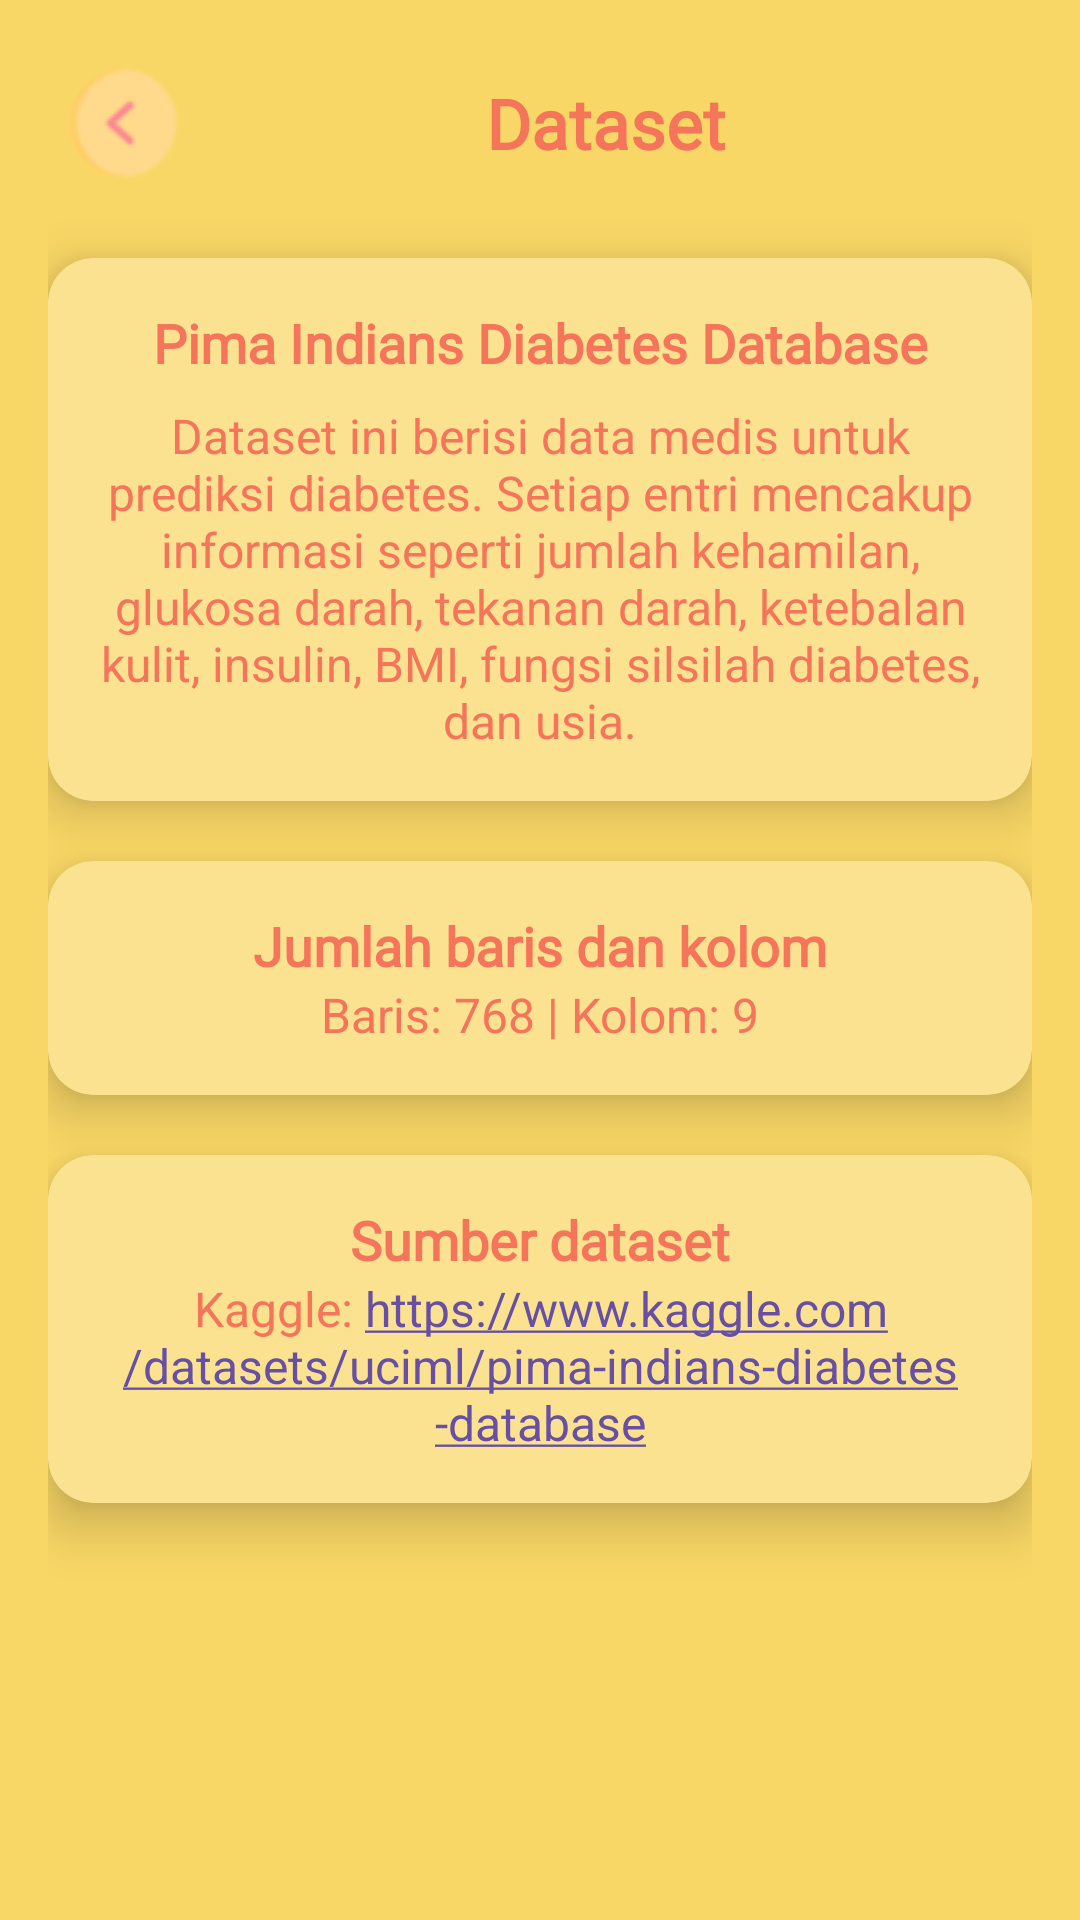

Named icons in this screenshot (1080w x 1920h) and their centers, (x,y):
Back: (127,123)
